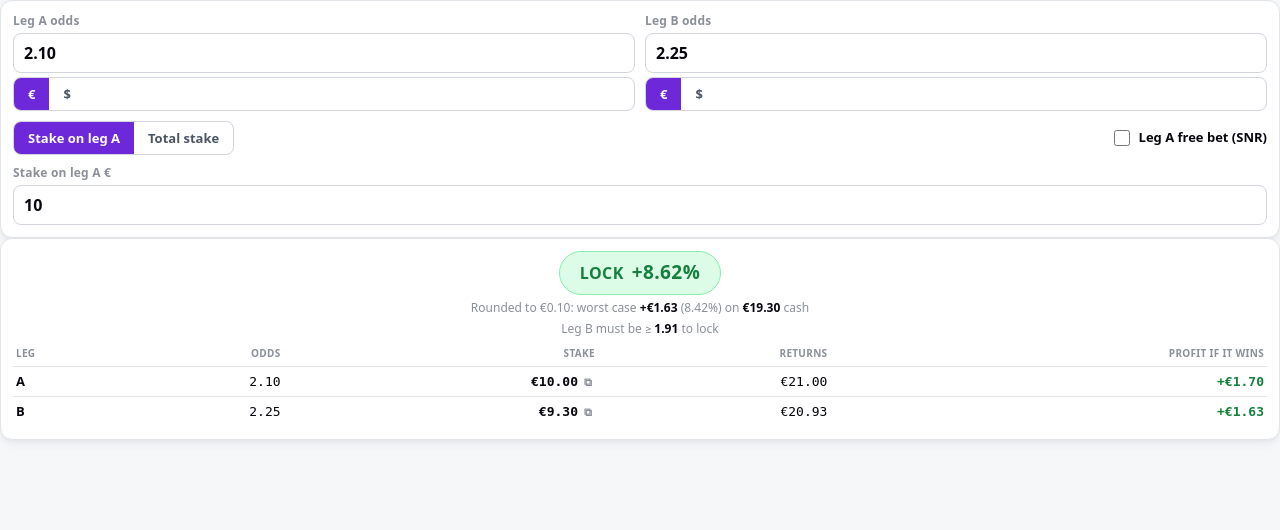
Scenario: DecimalCalc — a leg in dollars (user 2026-11-15: "dollars conversion for cloudbet. input to stay always eur … a toggle") › the rate field appears with a dollar leg and drives the sizing
The width and height of the screenshot is (1280, 530).
Click the button named "Leg B in dollars".
click(699, 94)  # box [681, 78, 717, 110]
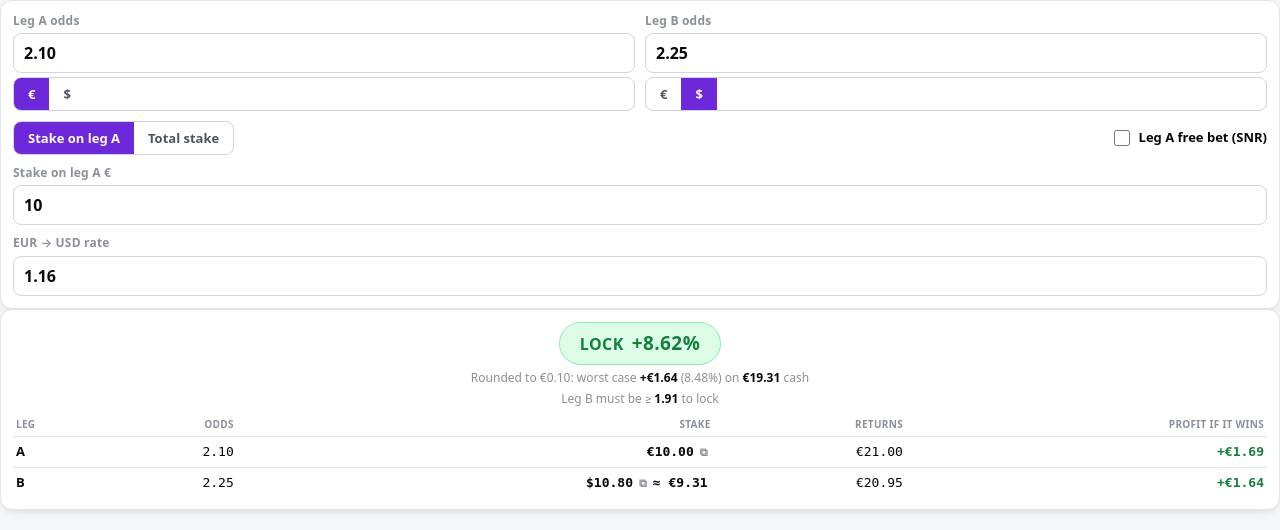
Result: the field labelled "EUR → USD rate" holds "1.16" at [13, 256, 1267, 296]
